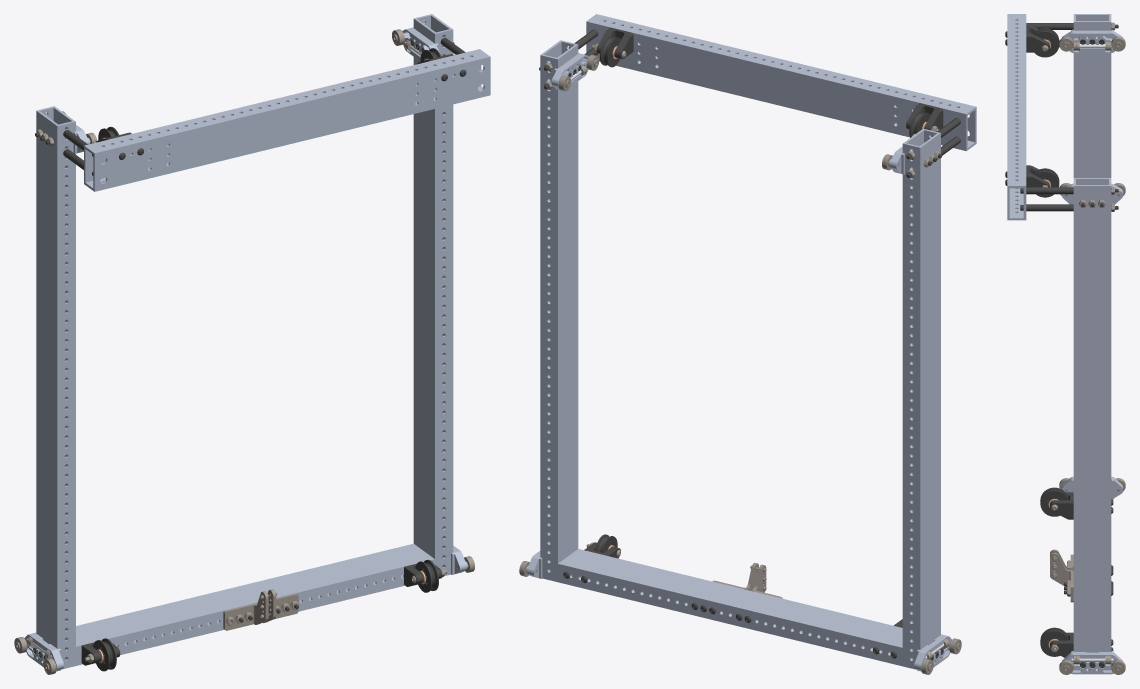
3 views of the same model, side by side, from view 1: azimuth 30°, elevation 25°; view 2: azimuth 150°, elevation 25°; view 3: azimuth 270°, elevation 25° (orthographic). The views are drawn at different scales.
Parts seen in each view (by area): view 1: (3) 1st V tube (×2), (3) 1st Upper H tube, (3) 1st H tube, WCP-0583-025 Rev1; view 2: (3) 1st V tube (×2), (3) 1st Upper H tube, (3) 1st H tube; view 3: (3) 1st V tube (×2), (3) 1st Upper H tube, WCP-0897-001 Rev1 (×4), Cascade Pulley Block (WCP-0298) (×4), WCP-0096 (×4), Aluminum Spacers (.196" ID x 3/8" OD x 2" WD) (5-Pack) (WCP- (×3), WCP-0583-026 Rev1.
Part boxes in pixels (x1,y1,x2,y2): (3) 1st V tube (×2): (36,14,453,669); (3) 1st Upper H tube: (84,49,490,191); (3) 1st H tube: (76,543,434,665); WCP-0583-025 Rev1: (223,591,268,630); (3) 1st V tube (×2): (540,40,940,669); (3) 1st Upper H tube: (586,14,976,151); (3) 1st H tube: (558,549,902,666); (3) 1st V tube (×2): (1073,14,1111,657); (3) 1st Upper H tube: (1007,14,1026,220); WCP-0897-001 Rev1 (×4): (1061,29,1123,674); Cascade Pulley Block (WCP-0298) (×4): (1026,25,1073,657); WCP-0096 (×4): (1034,31,1068,656); Aluminum Spacers (.196" ID x 3/8" OD x 2" WD) (5-Pack) (WCP- (×3): (1035,23,1073,211); WCP-0583-026 Rev1: (1050,552,1073,602).
Bounding box in the file's own units: 0.5877 × 0.7176 × 0.1613.
